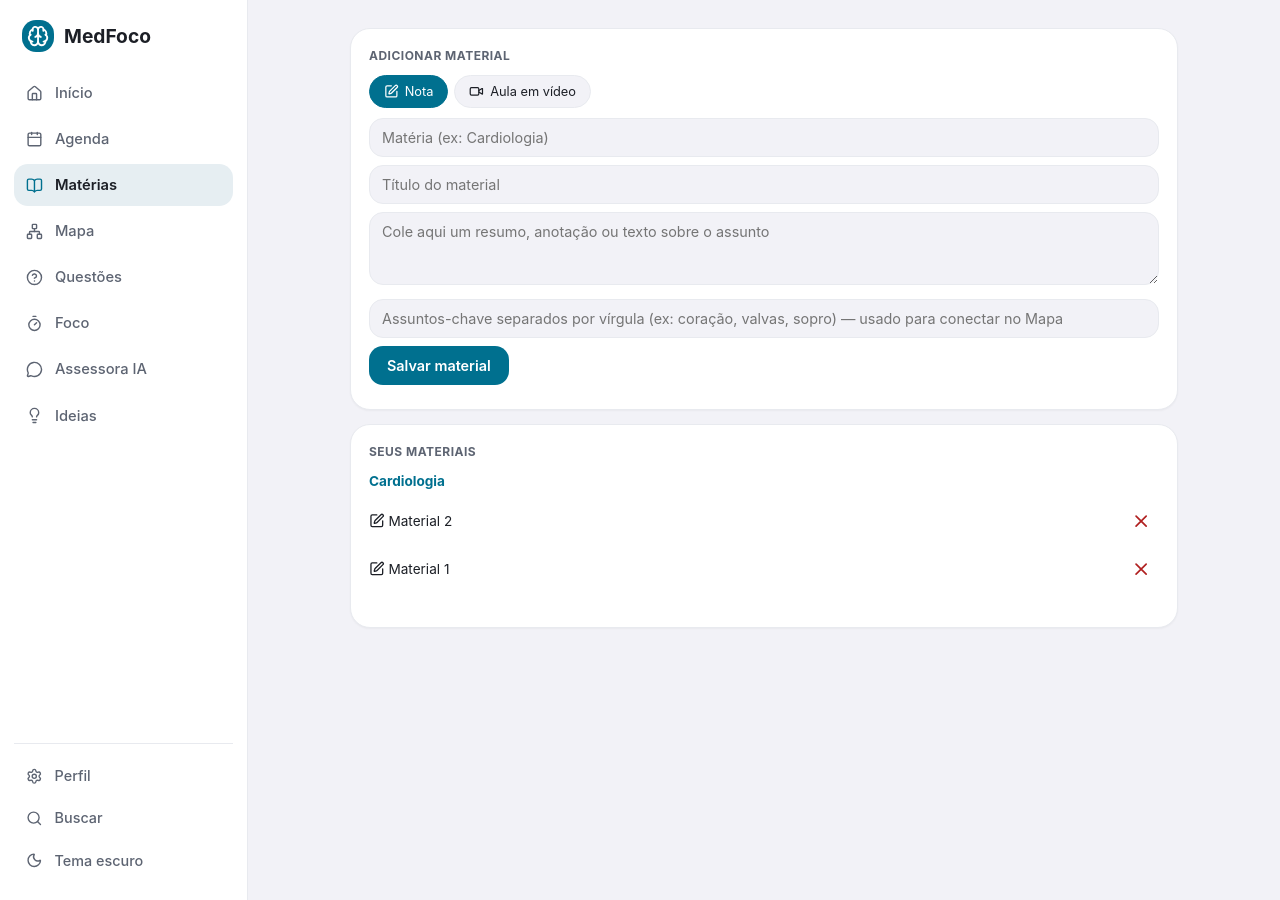
it: Matérias › exclusão › pede confirmação; Cancelar e Esc não excluem
Click the button named "Excluir material Material 1" at (1141, 569), box [1123,551,1159,587]
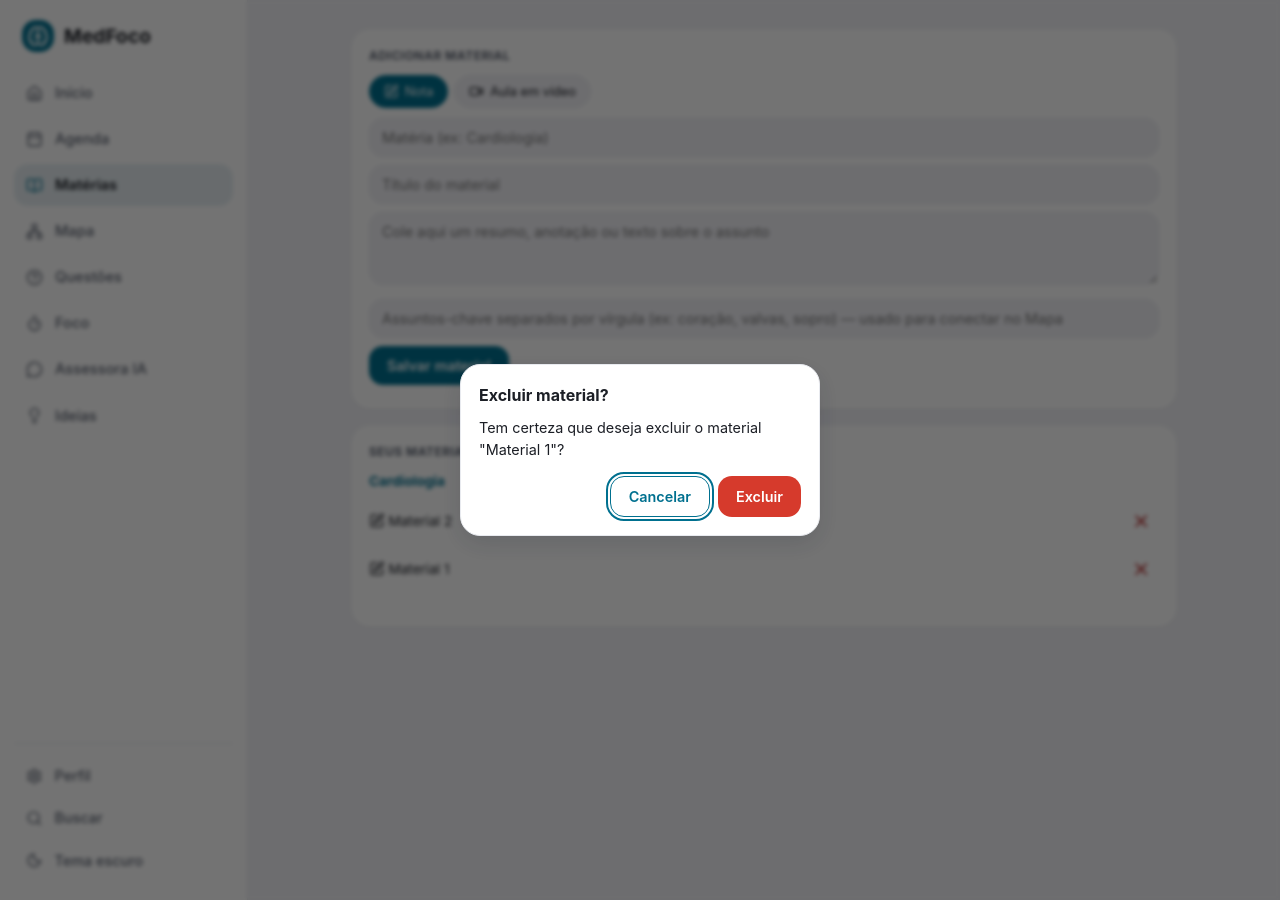
expect the dialog "Excluir material?" shows "Tem certeza que deseja excluir o material \"Material 1\"?": met, box [479,419,762,458]
Click the button "Cancelar" at (660, 497), box [610,476,710,517]
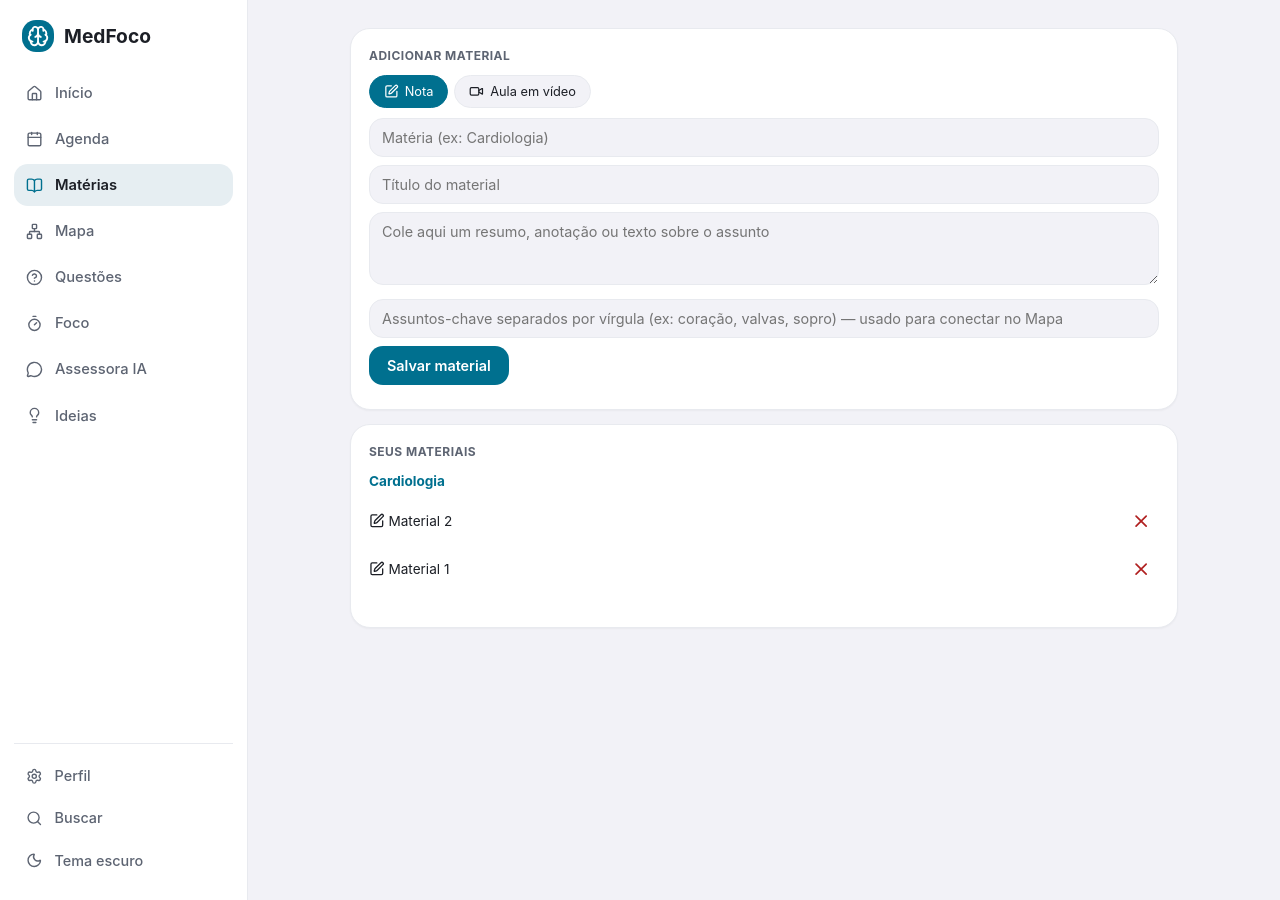
Click the button named "Excluir material Material 1" at (1141, 569), box [1123,551,1159,587]
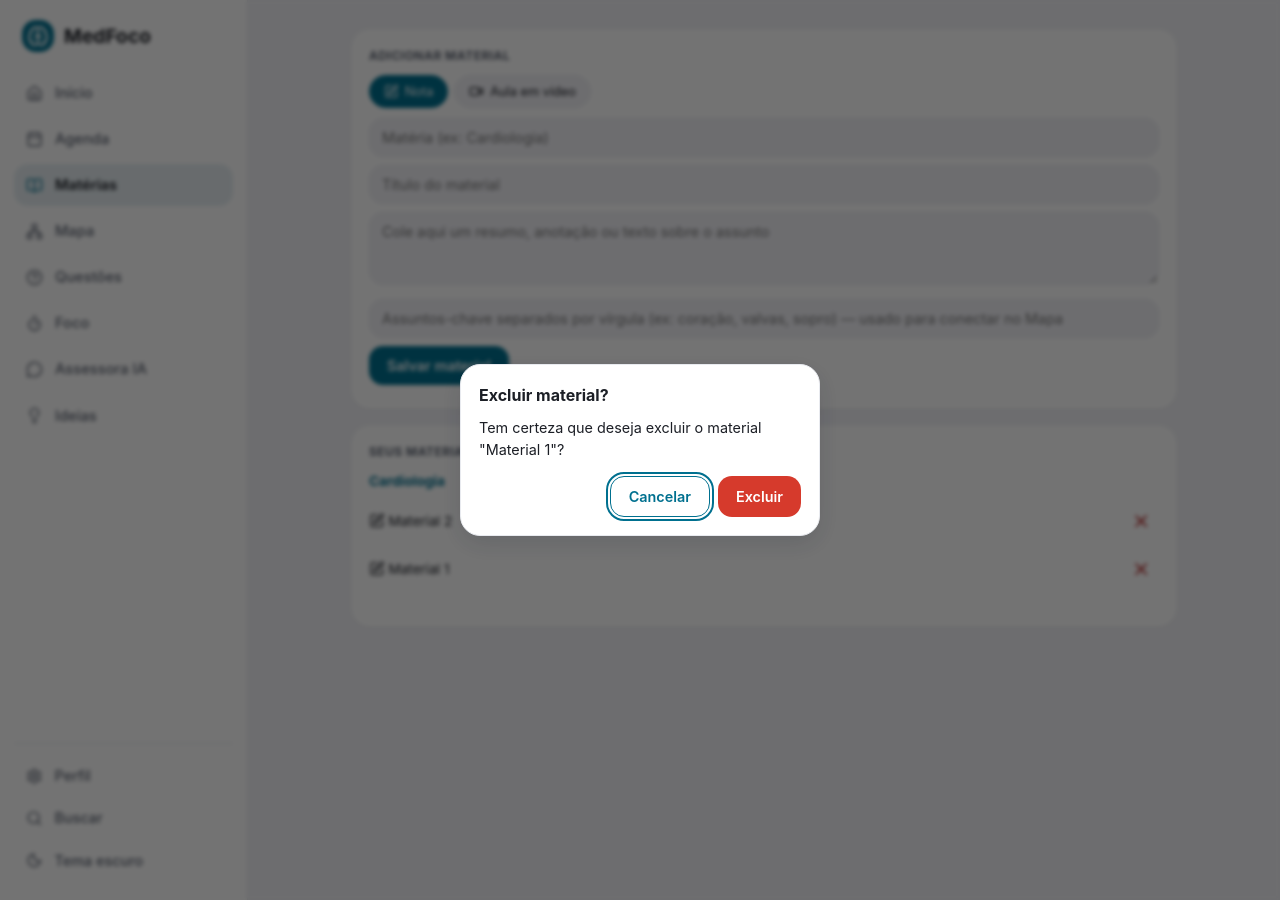
Press Escape in the dialog, box [460,364,820,536]
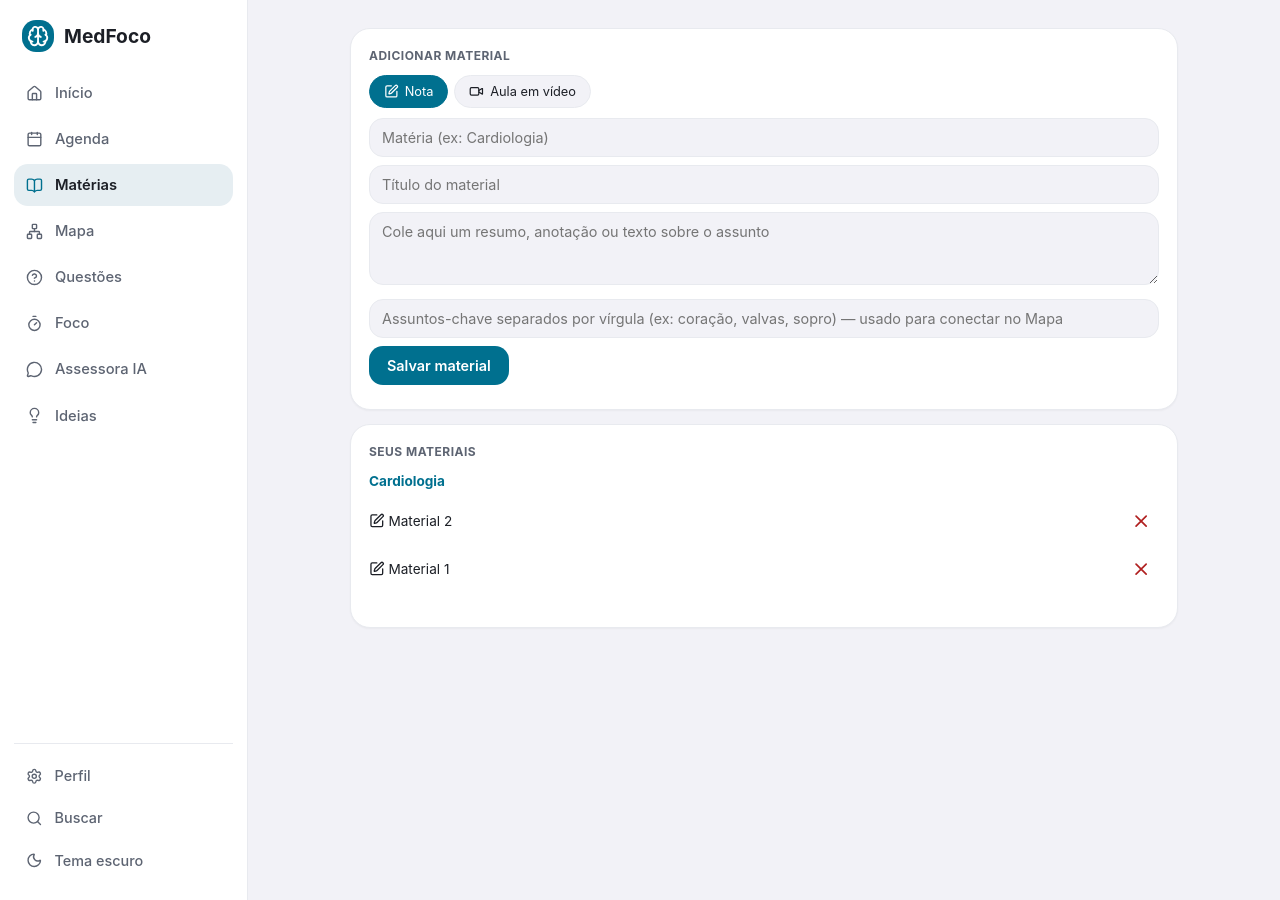
expect the dialog is gone: met
